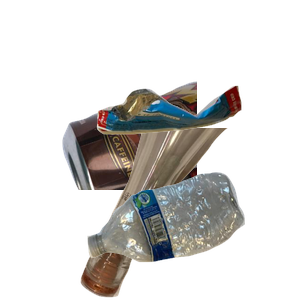glass: (78, 128, 298, 300)
metal: (60, 79, 300, 259)
plastic: (85, 170, 300, 300)
trash: (94, 83, 300, 210)
